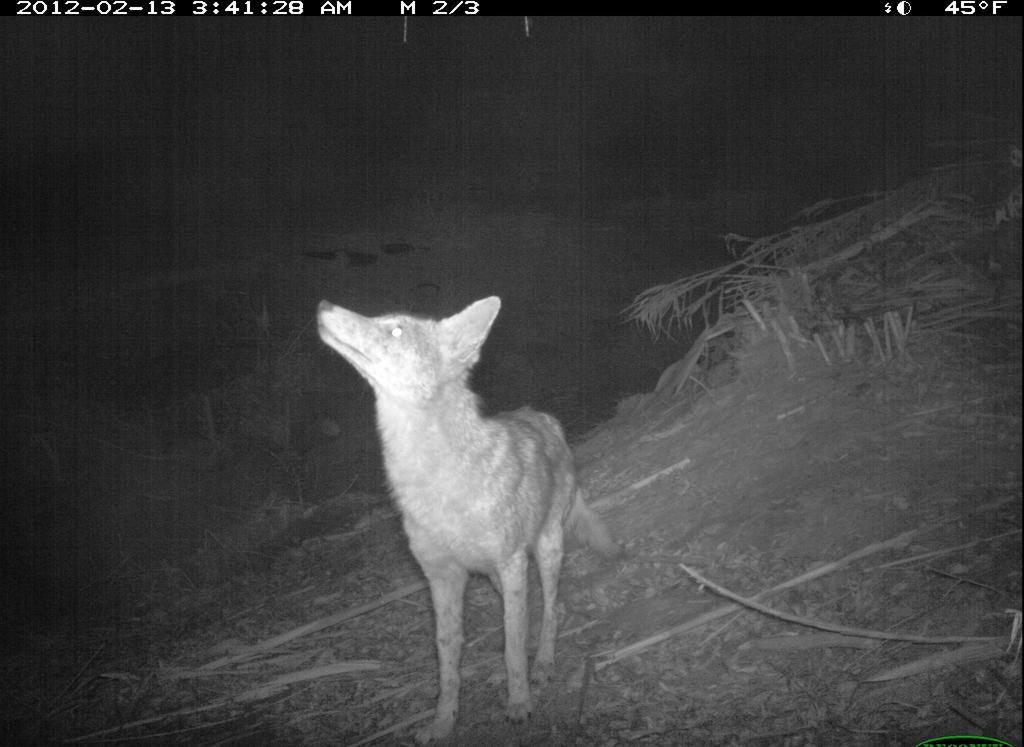coyote: (269, 269, 634, 747)
